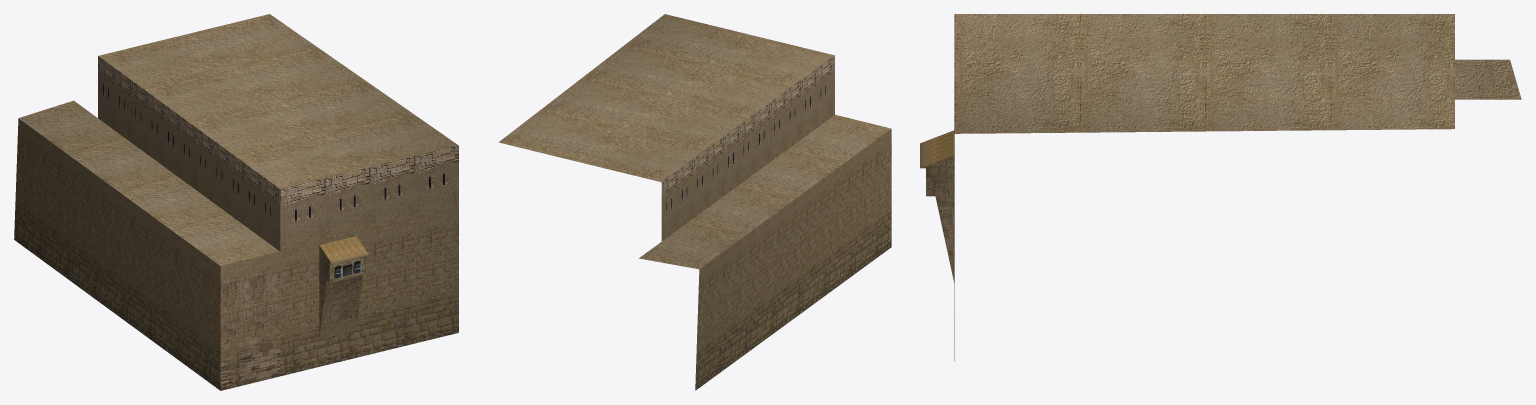
The model's file is M7Z4_FortWall1_C.glb.
3 renders of one model, left to right at view 1: azimuth 30°, elevation 25°; view 2: azimuth 150°, elevation 25°; view 3: azimuth 270°, elevation 25°, orthographic. The views are drawn at different scales.
Visible parts, largest first — view 1: M7Z4_FORTWALL1_C; view 2: M7Z4_FORTWALL1_C; view 3: M7Z4_FORTWALL1_C.
Part boxes in pixels (x1=…): M7Z4_FORTWALL1_C: x1=14, y1=14, x2=458, y2=390; M7Z4_FORTWALL1_C: x1=498, y1=14, x2=891, y2=390; M7Z4_FORTWALL1_C: x1=920, y1=14, x2=1521, y2=360.
Bounding box in the file's own units: 16 × 12 × 25.46.
Materials: 10 (10 with a texture image).
